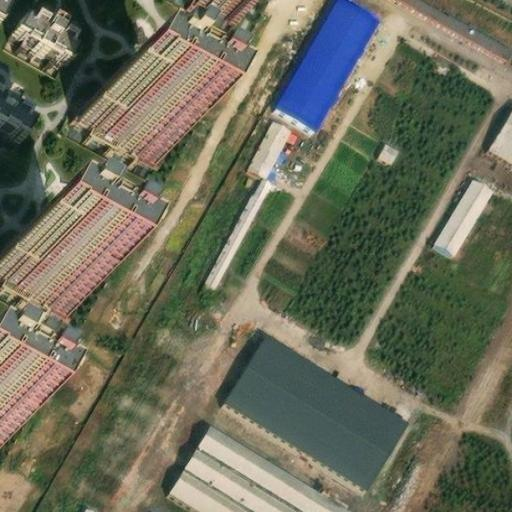building: (224, 326, 408, 483), (167, 414, 357, 512), (275, 0, 381, 120), (209, 167, 272, 276), (82, 86, 175, 155), (0, 238, 87, 304), (415, 0, 512, 56), (435, 172, 495, 250), (13, 12, 76, 63), (249, 112, 297, 173), (0, 89, 29, 134), (491, 100, 512, 148), (370, 138, 398, 167), (80, 502, 98, 512)
